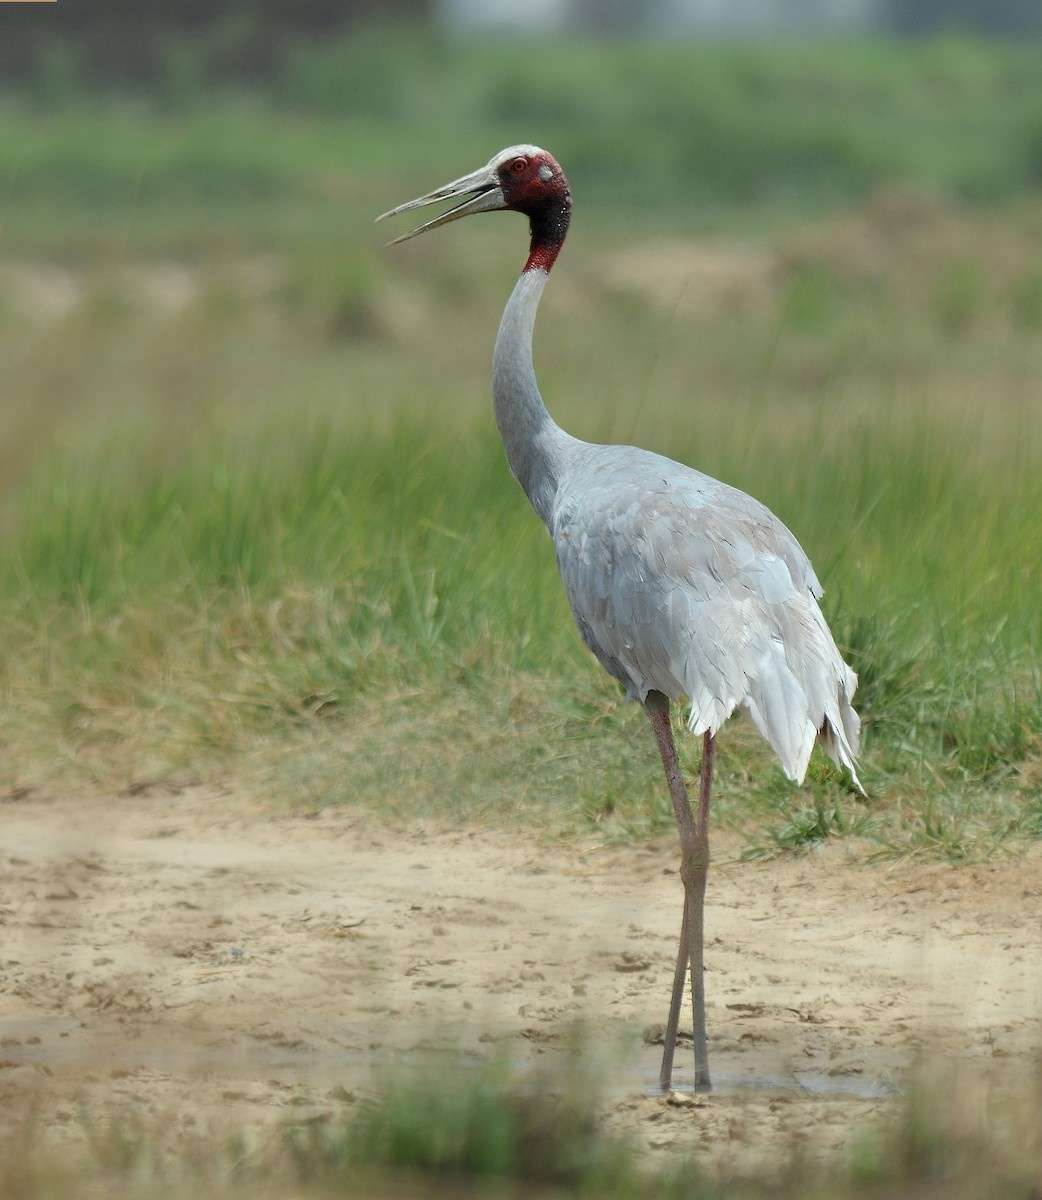crane: (388, 132, 859, 1085)
